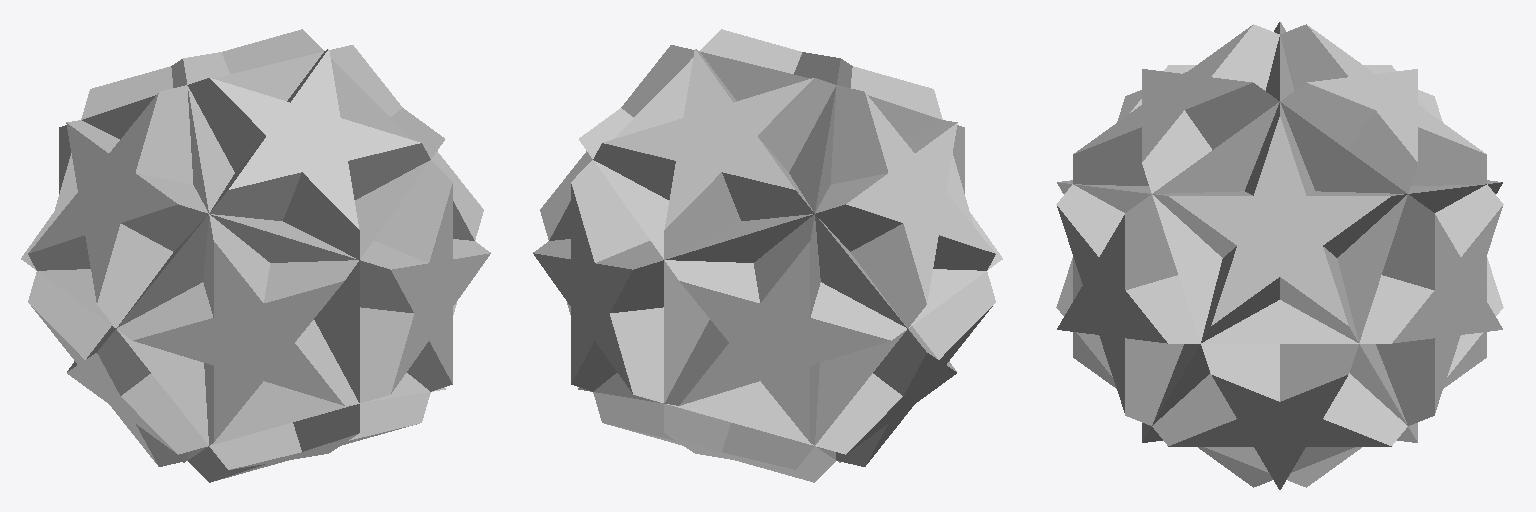
The model's file is TruncatedGreatIcosahedron.obj.
The picture shows the model from 3 angles: view 1: azimuth 30°, elevation 25°; view 2: azimuth 150°, elevation 25°; view 3: azimuth 270°, elevation 25°; orthographic projection.
Size of the model in its own units: 2 by 2 by 2.